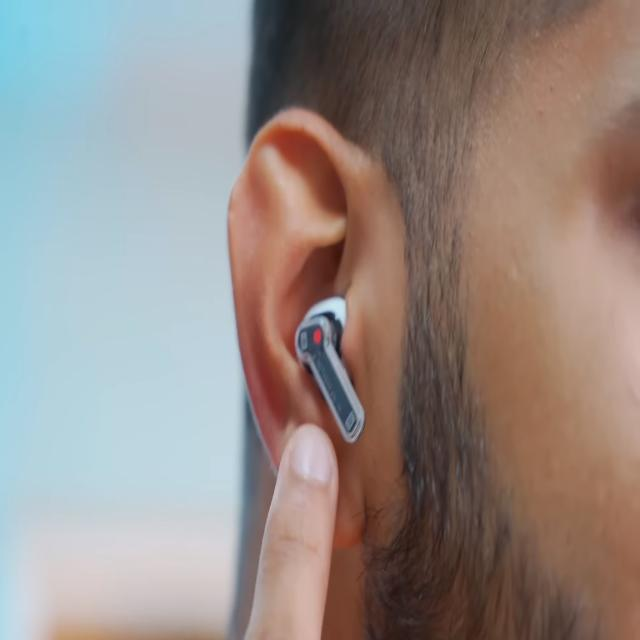airpods: (294, 292, 366, 445)
